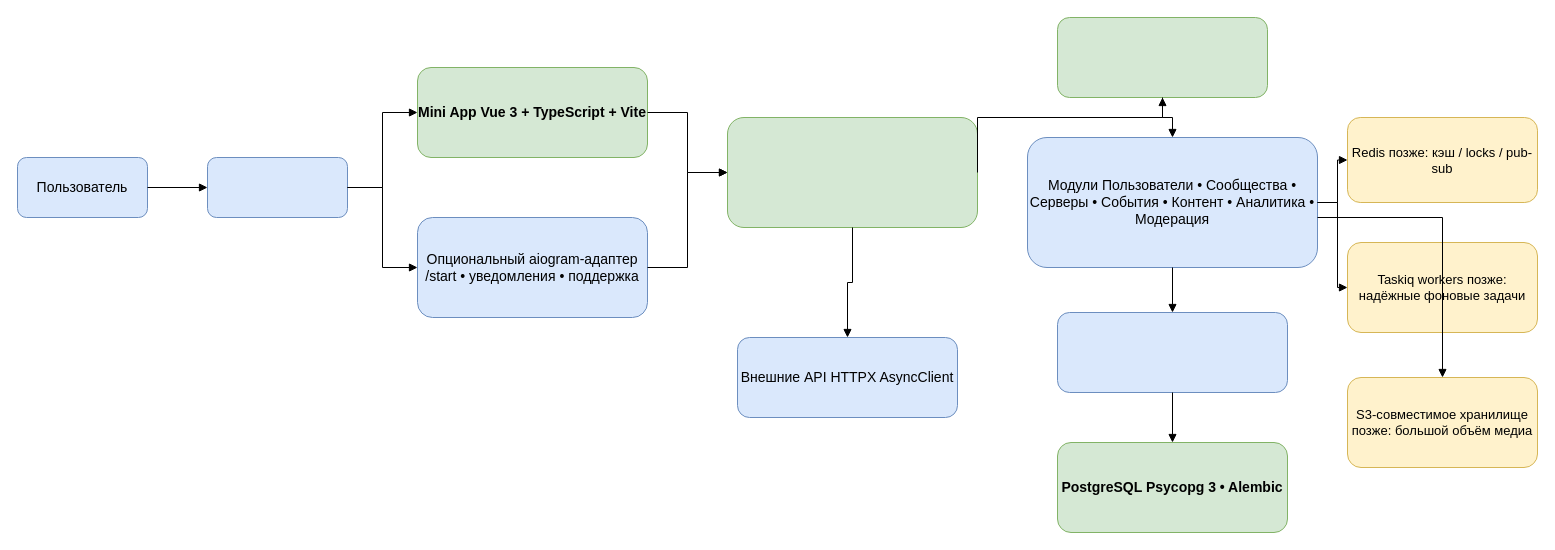
This 1555x550 diagram has some shape labels left out. Here are the shapes that lost their labels. From the top down, the box of each, then its label:
(1056, 16, 1268, 98): Слой Service бизнес-логика
(206, 156, 348, 218): Telegram
(726, 116, 978, 228): Модульный монолит FastAPI Python + asyncio
(1056, 312, 1288, 392): Слой Repository SQLAlchemy 2.x async
